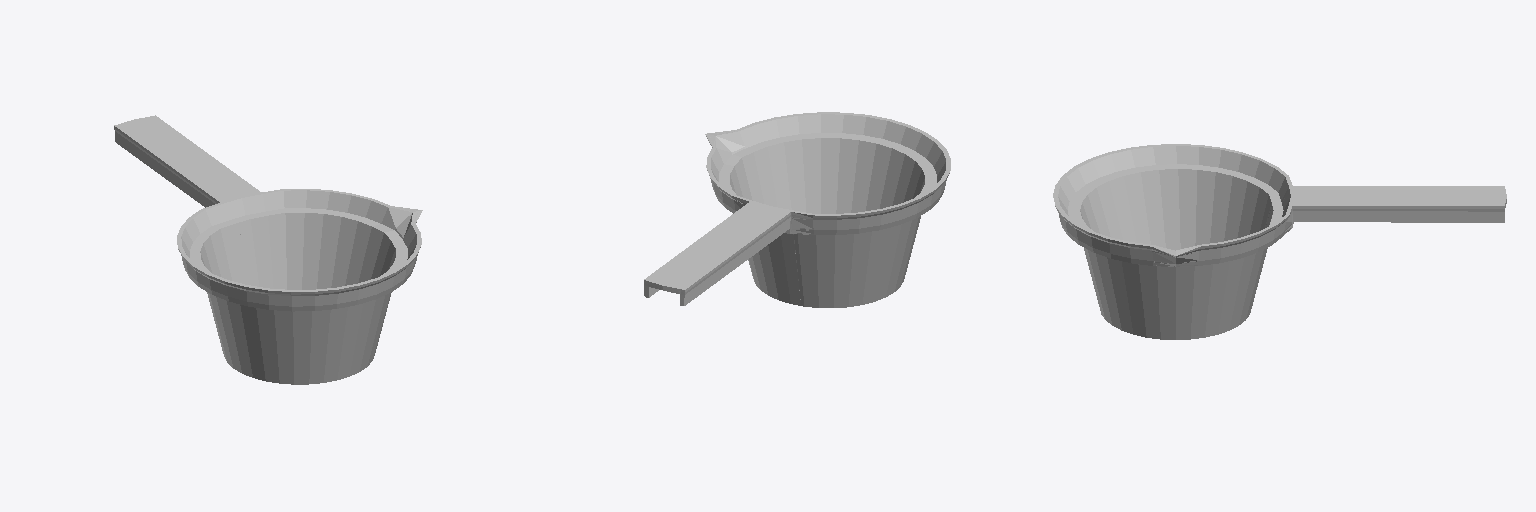
The model's file is gayung fix.obj.
3 views of the same model, side by side, from view 1: azimuth 30°, elevation 25°; view 2: azimuth 150°, elevation 25°; view 3: azimuth 270°, elevation 25° (orthographic).
Parts seen in each view (by area): view 1: Circle; view 2: Circle; view 3: Circle.
Part boxes in pixels (x1,y1,x2,y2): Circle: (114,115,422,384); Circle: (644,112,950,307); Circle: (1053,144,1506,339).
Bounding box in the file's own units: 3.5 × 1.64 × 5.99.